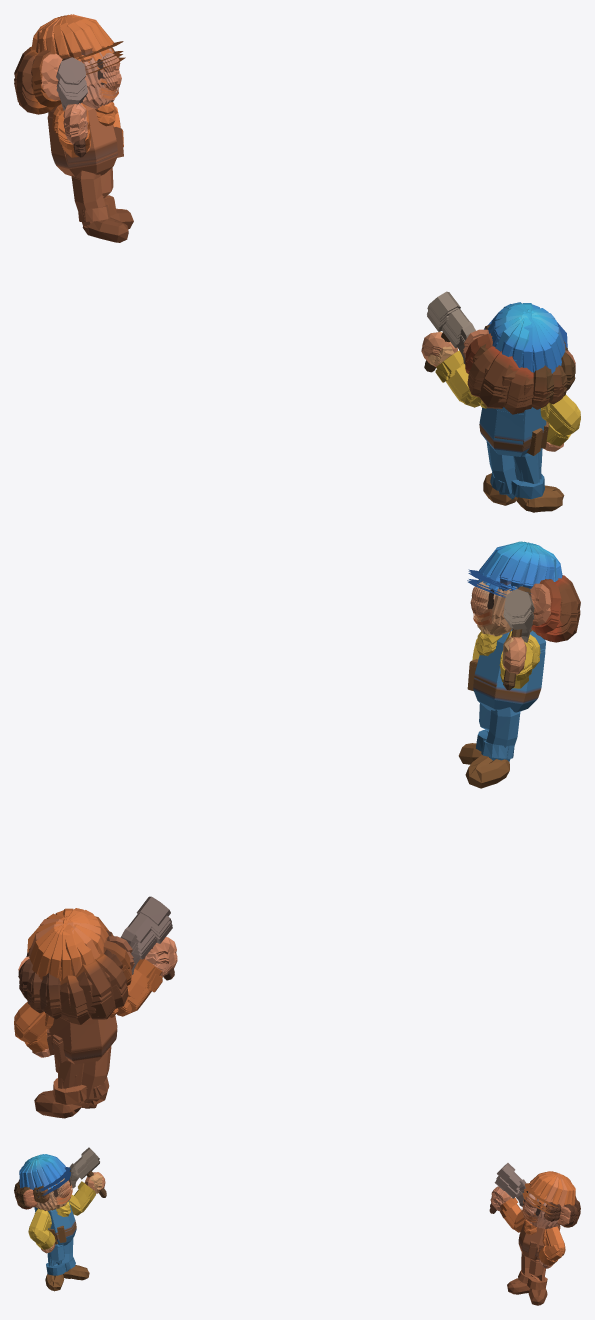
File: Menu_roBLoop.fbx
3 renders of one model, top to bottom at view 1: azimuth 30°, elevation 25°; view 2: azimuth 150°, elevation 25°; view 3: azimuth 270°, elevation 25°, orthographic. The views are drawn at different scales.
Visible parts, largest first — view 1: Robreparo1; view 2: Robreparo1; view 3: Robreparo1.
Boxes of the visible parts, box(x1,y1,x2,y2) form: Robreparo1: box(14, 14, 580, 512); Robreparo1: box(14, 541, 580, 1118); Robreparo1: box(14, 1147, 580, 1305).
Size of the model in its own units: 2.64 by 5.52 by 20.26.
